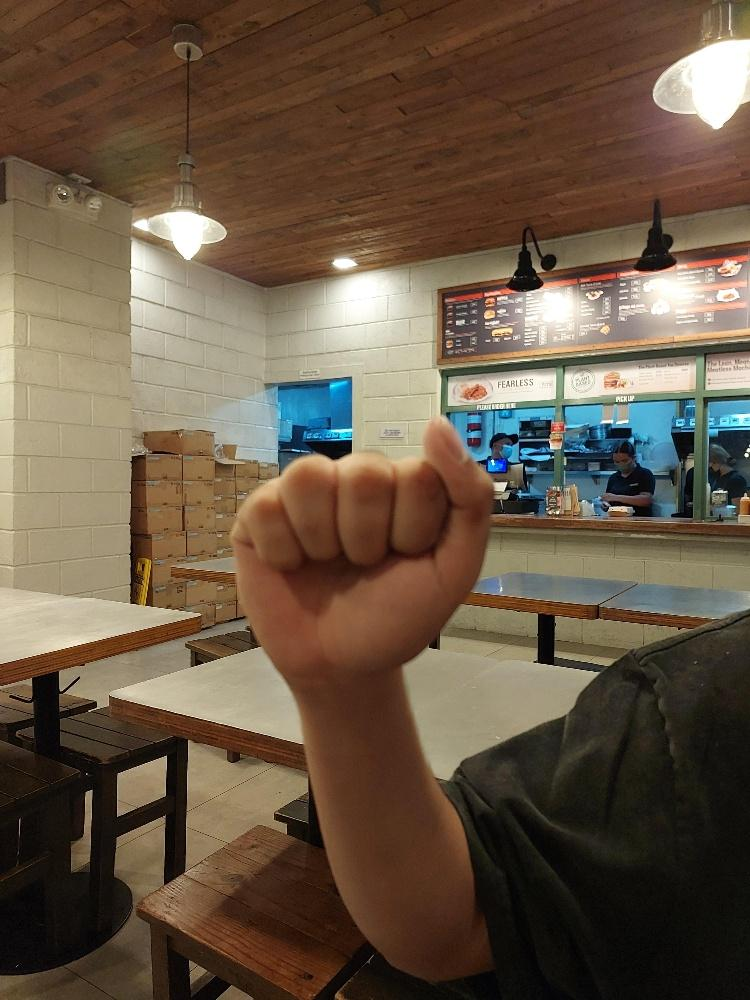a: (226, 409, 497, 685)
